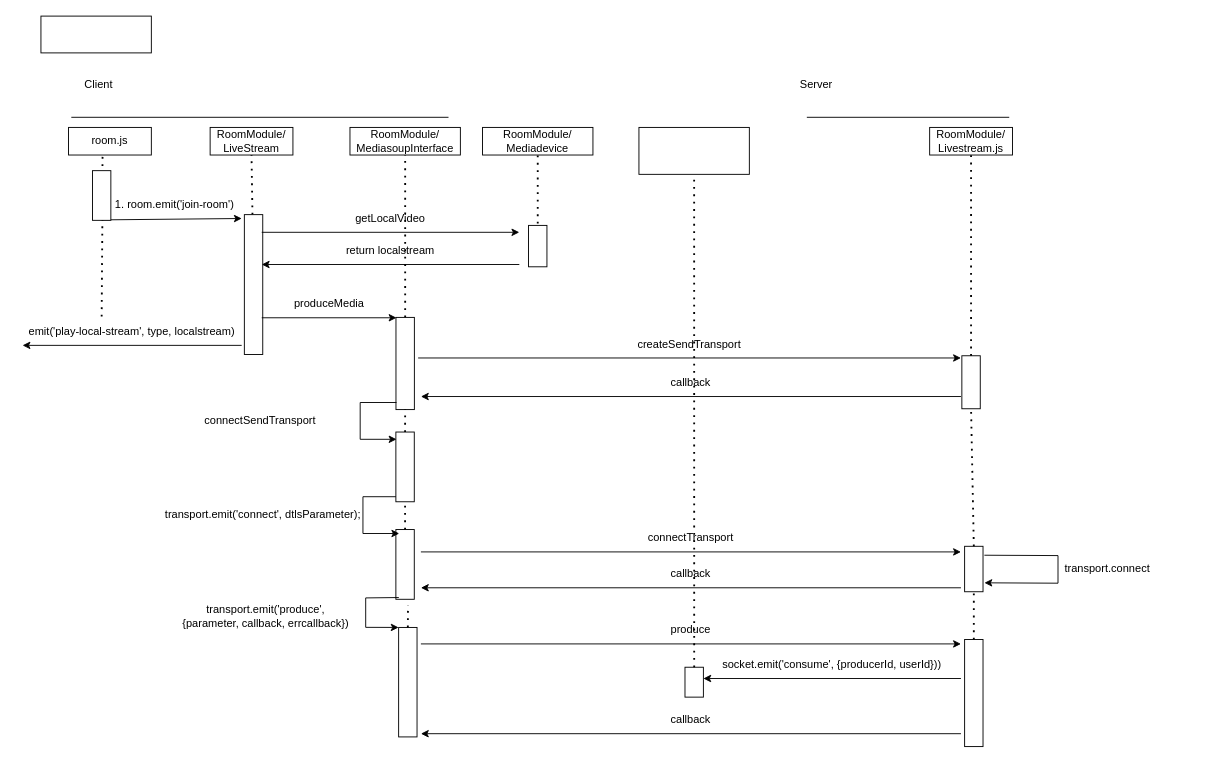
This 1221x763 diagram has some shape labels left out. Each missing label, with the centre of its shape:
"livestream : publish" belongs at (x=95, y=34).
"RoomModule/ MediasoupInterface (consumer)" belongs at (x=693, y=150).
